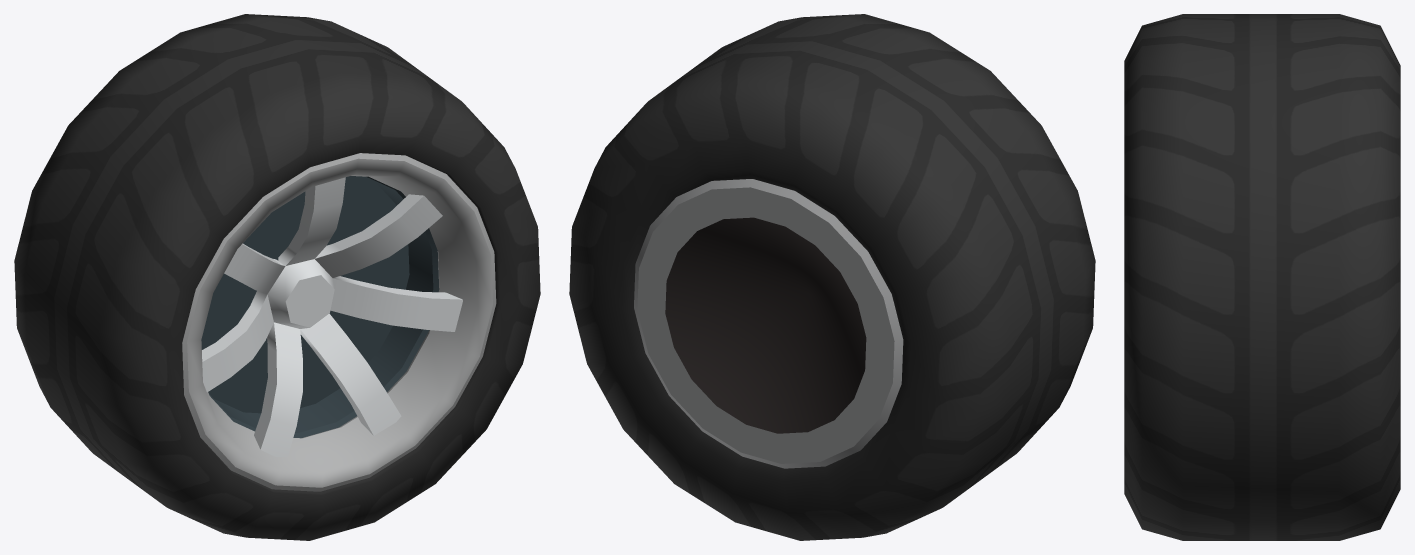
Rendered from Wheel_04.fbx.
3 renders of one model, left to right at view 1: azimuth 30°, elevation 25°; view 2: azimuth 150°, elevation 25°; view 3: azimuth 270°, elevation 25°, orthographic. The views are drawn at different scales.
Visible parts, largest first — view 1: Wheel_04; view 2: Wheel_04; view 3: Wheel_04.
Boxes of the visible parts, x1,y1,x2,y2 form: Wheel_04: (14,14,540,540); Wheel_04: (569,14,1095,540); Wheel_04: (1124,14,1400,540).
Size of the model in its own units: 95 by 50 by 95.
